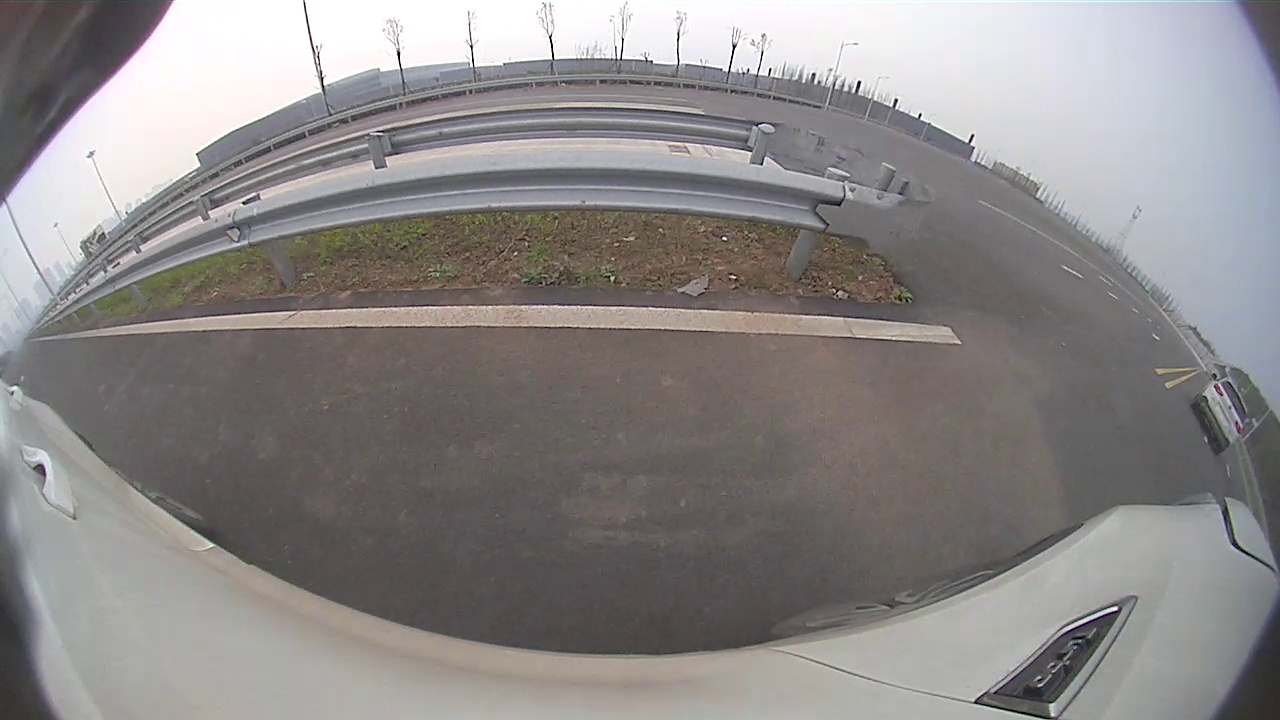car: (1189, 373, 1248, 455)
